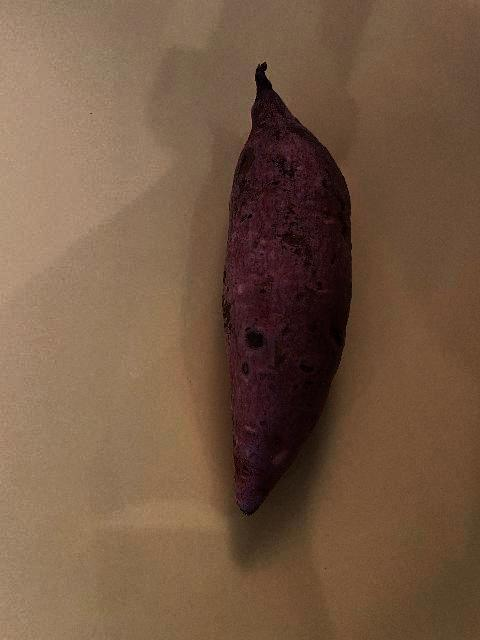sweetpotato: (222, 62, 352, 514)
